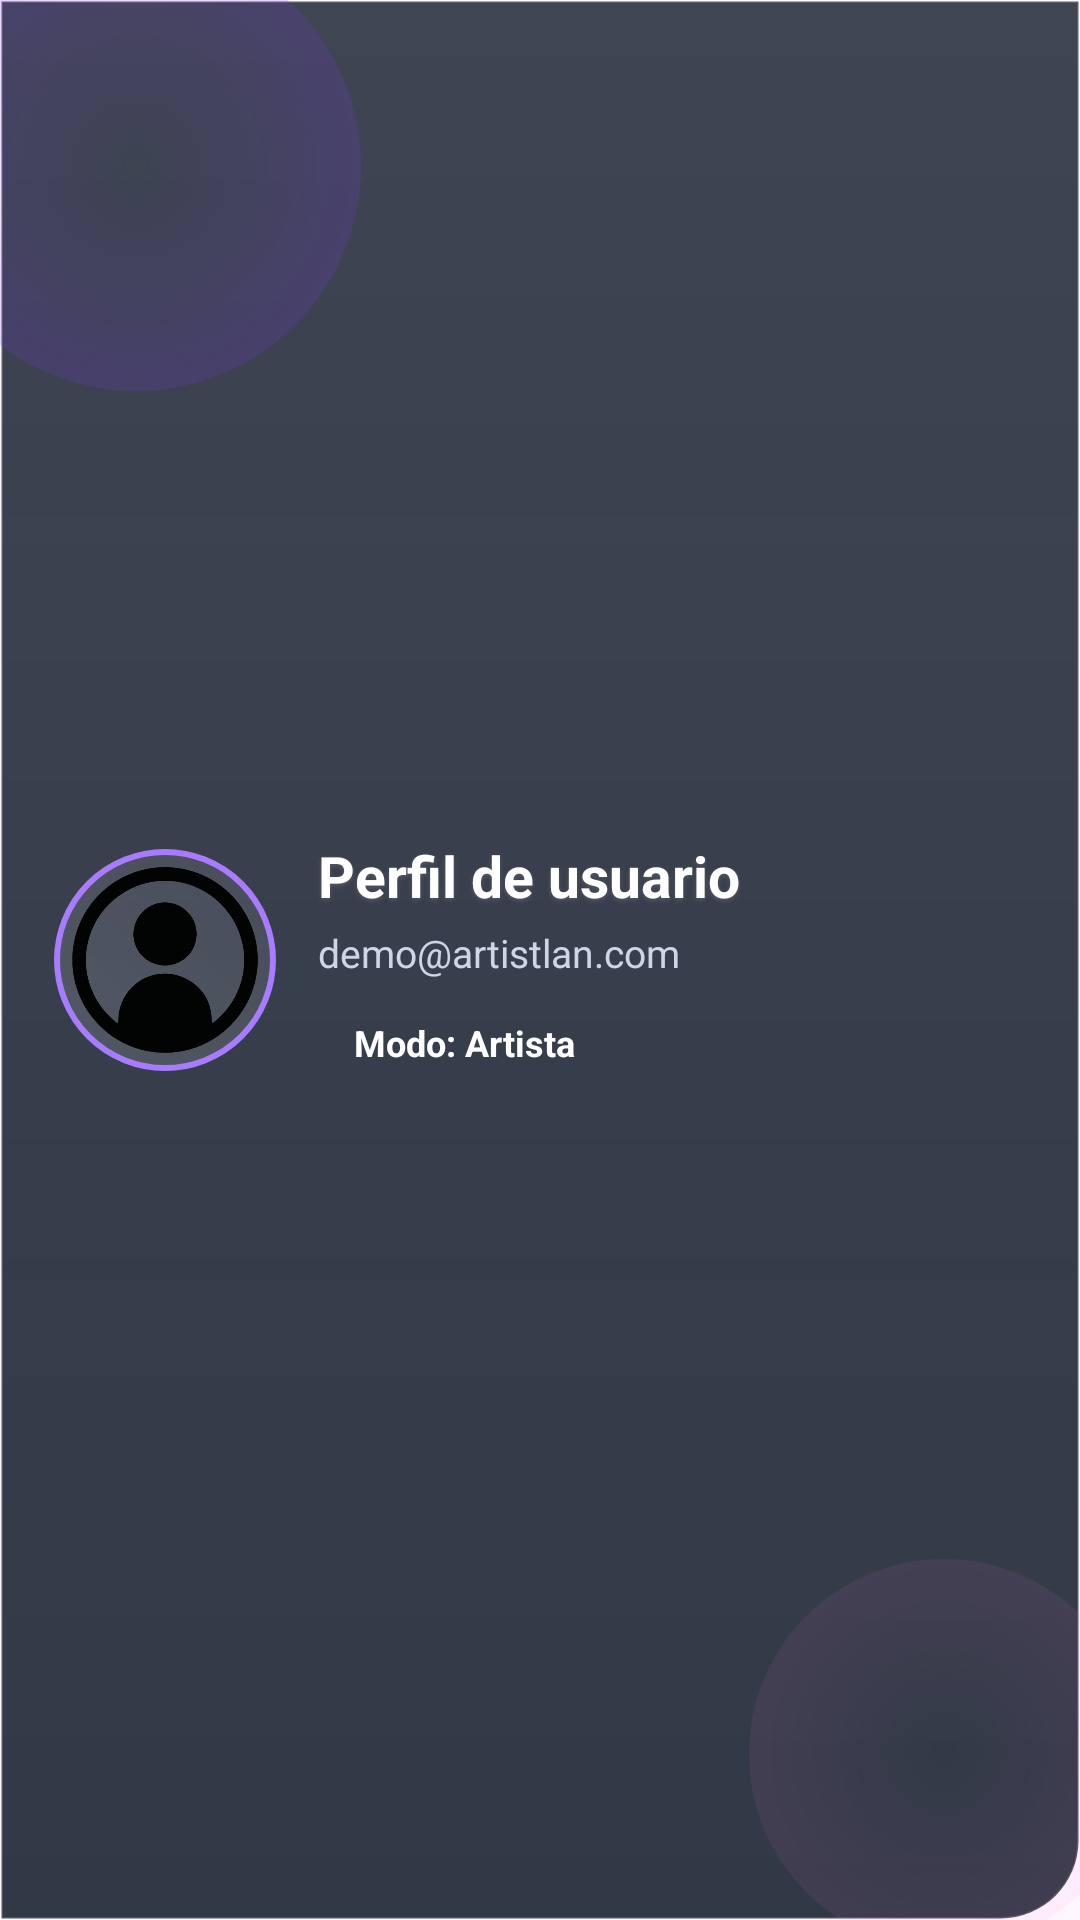

Screen size 1080x1920. Icon name, then its center in pixels as (x=x, y=y):
Foto de perfil: (x=165, y=960)
